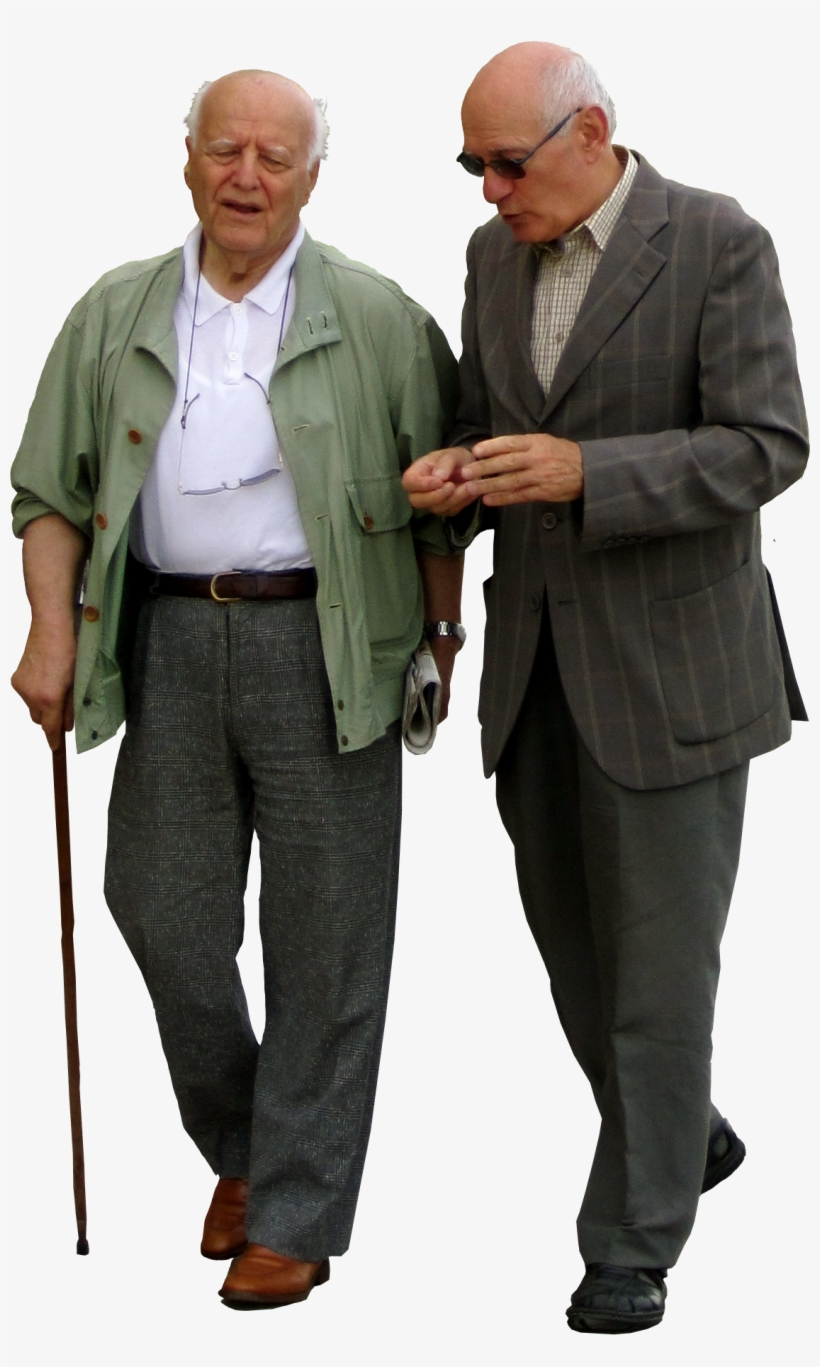face: (443, 35, 627, 247), (175, 60, 329, 258)
